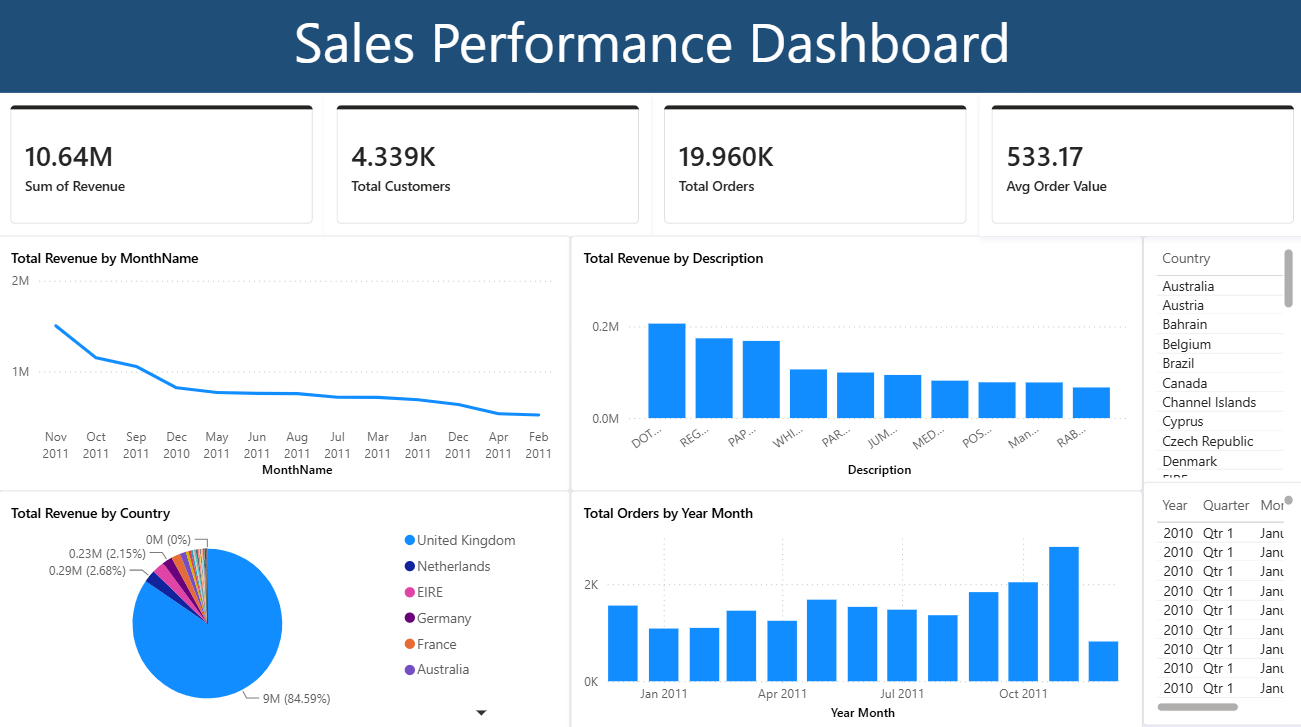

The page's visual inventory and layout, read from the dashboard file:
{"tool":"powerbi","page":{"name":"Page 1","canvas":[1280,720],"ordinal":0},"visuals":[{"type":"cardVisual","fields":{"Data":["Sum(Clean Data.Revenue)"]},"box":[0,92.9,320,140],"z":0},{"type":"cardVisual","fields":{"Data":["Clean Data.Total Orders"]},"box":[639.5,92.9,320.4,140],"z":1},{"type":"cardVisual","fields":{"Data":["Clean Data.Total Customers"]},"box":[319.2,92.9,320.4,140],"z":2},{"type":"cardVisual","fields":{"Data":["Clean Data.Avg Order Value"]},"box":[962.4,103.9,32,140],"z":3},{"type":"lineChart","fields":{"Category":["DateTable.MonthName"],"Y":["Clean Data.Total Revenue"]},"box":[0,232.3,560,250],"z":4},{"type":"columnChart","fields":{"Category":["Clean Data.Description"],"Y":["Clean Data.Total Revenue"]},"box":[560.1,232.3,560,250],"z":5},{"type":"pieChart","fields":{"Category":["Clean Data.Country"],"Y":["Clean Data.Total Revenue"]},"box":[0,481.8,560,238.5],"z":6},{"type":"columnChart","fields":{"Category":["Clean Data.Year Month"],"Y":["Clean Data.Total Orders"]},"box":[560.1,481.8,560,238],"z":7},{"type":"tableEx","fields":{"Values":["Clean Data.Country"]},"box":[1120.1,232.3,160.2,250],"z":9},{"type":"tableEx","fields":{"Values":["Clean Data.Year Month.Variation.Date Hierarchy.Year","Clean Data.Year Month.Variation.Date Hierarchy.Quarter","Clean Data.Year Month.Variation.Date Hierarchy.Month","Clean Data.Year Month.Variation.Date Hierarchy.Day"]},"box":[1120.1,473.2,160.2,238],"z":10},{"type":"textbox","box":[0,0,1280.3,92.9],"z":11},{"type":"cardVisual","fields":{"Data":["Clean Data.Avg Order Value"]},"box":[959.9,92.9,320.4,140],"z":12}]}

Visuals, with their boxes in screenshot pixels (x1, y1, x2, y2), scaled from the page's 1280x720 canvas onto the 1301x727 screenshot:
cardVisual - Sum(Clean Data.Revenue): bbox(0, 94, 325, 235)
cardVisual - Clean Data.Total Orders: bbox(650, 94, 976, 235)
cardVisual - Clean Data.Total Customers: bbox(324, 94, 650, 235)
cardVisual - Clean Data.Avg Order Value: bbox(978, 105, 1011, 246)
lineChart - DateTable.MonthName x Clean Data.Total Revenue: bbox(0, 235, 569, 487)
columnChart - Clean Data.Description x Clean Data.Total Revenue: bbox(569, 235, 1138, 487)
pieChart - Clean Data.Country x Clean Data.Total Revenue: bbox(0, 486, 569, 726)
columnChart - Clean Data.Year Month x Clean Data.Total Orders: bbox(569, 486, 1138, 726)
tableEx - Clean Data.Country: bbox(1138, 235, 1300, 487)
tableEx - Clean Data.Year Month.Variation.Date Hierarchy.Year x Clean Data.Year Month.Variation.Date Hierarchy.Quarter: bbox(1138, 478, 1300, 718)
textbox: bbox(0, 0, 1300, 94)
cardVisual - Clean Data.Avg Order Value: bbox(976, 94, 1300, 235)
